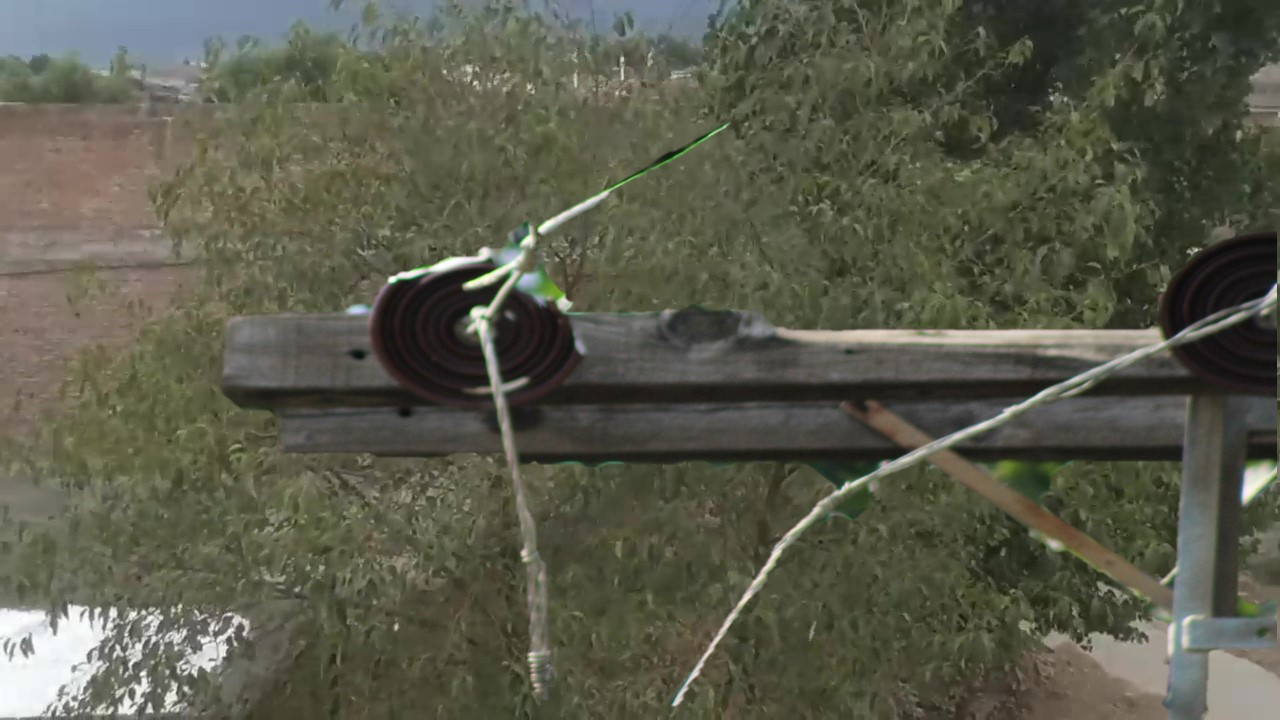defect_disc: (365, 240, 594, 408)
